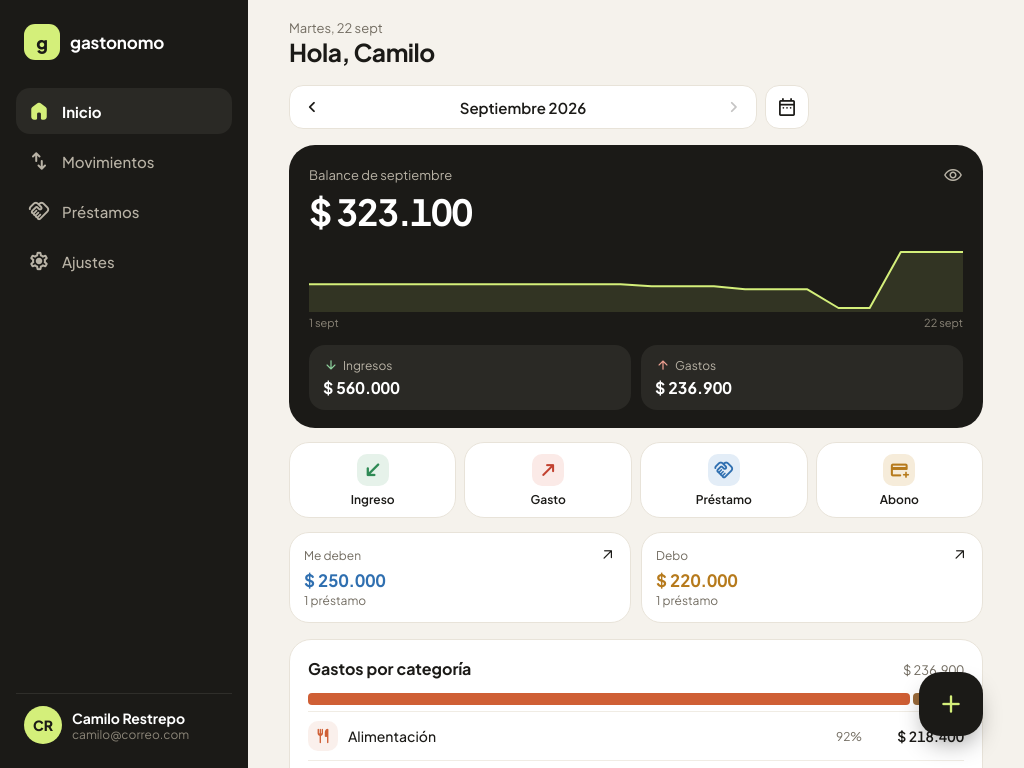
Test case: App › el boton de rango abre el sheet desde Inicio
The image size is (1024, 768).
Click the button named "Elegir un rango de fechas" at (787, 107), box 765,85 -> 809,129
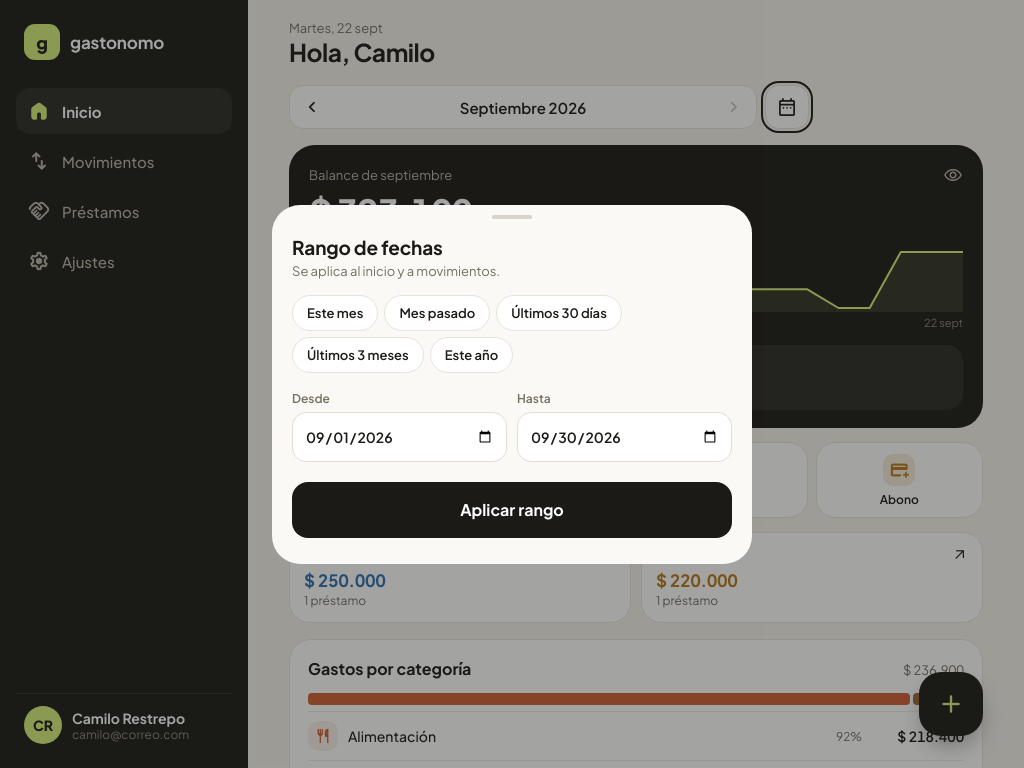
Result: the dialog "Rango de fechas" is shown at 272,204 -> 752,564
